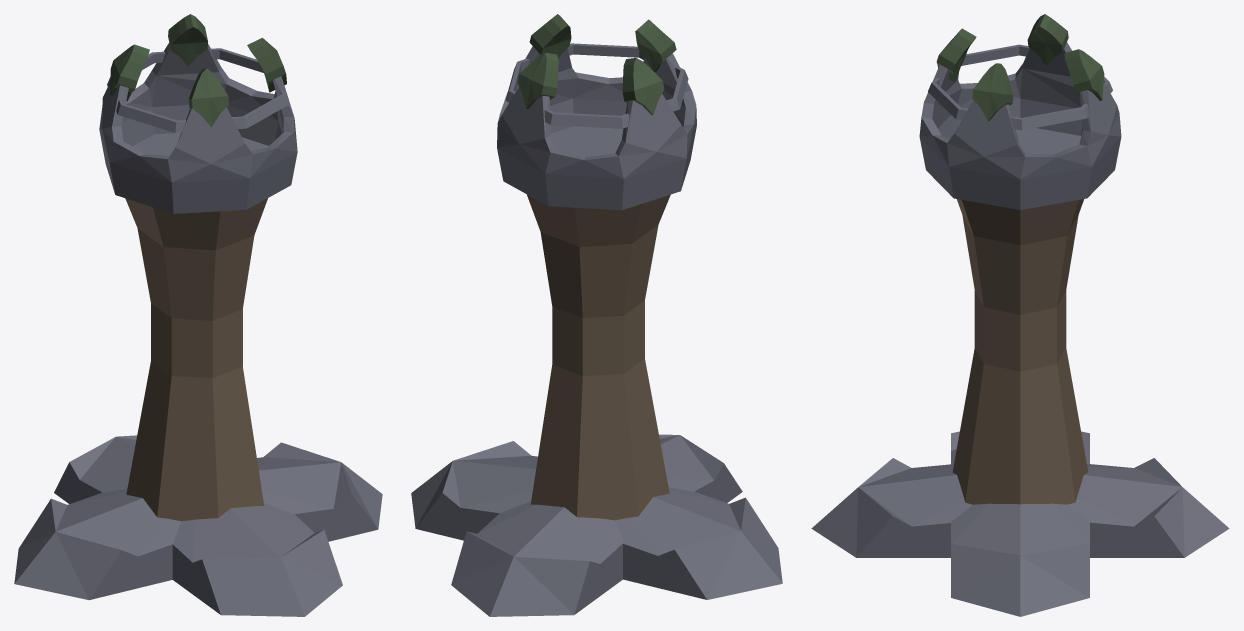
Rendered from _BRAZIER_1.fbx.
3 views of the same model, side by side, from view 1: azimuth 30°, elevation 25°; view 2: azimuth 150°, elevation 25°; view 3: azimuth 270°, elevation 25° (orthographic). The views are drawn at different scales.
Visible parts, largest first — view 1: BRAZIER_1; view 2: BRAZIER_1; view 3: BRAZIER_1.
Boxes of the visible parts, left/top/right/bottom form: BRAZIER_1: left=14, top=14, right=382, bottom=616; BRAZIER_1: left=411, top=14, right=782, bottom=616; BRAZIER_1: left=811, top=14, right=1229, bottom=616.
Size of the model in its own units: 189 by 244 by 189.
